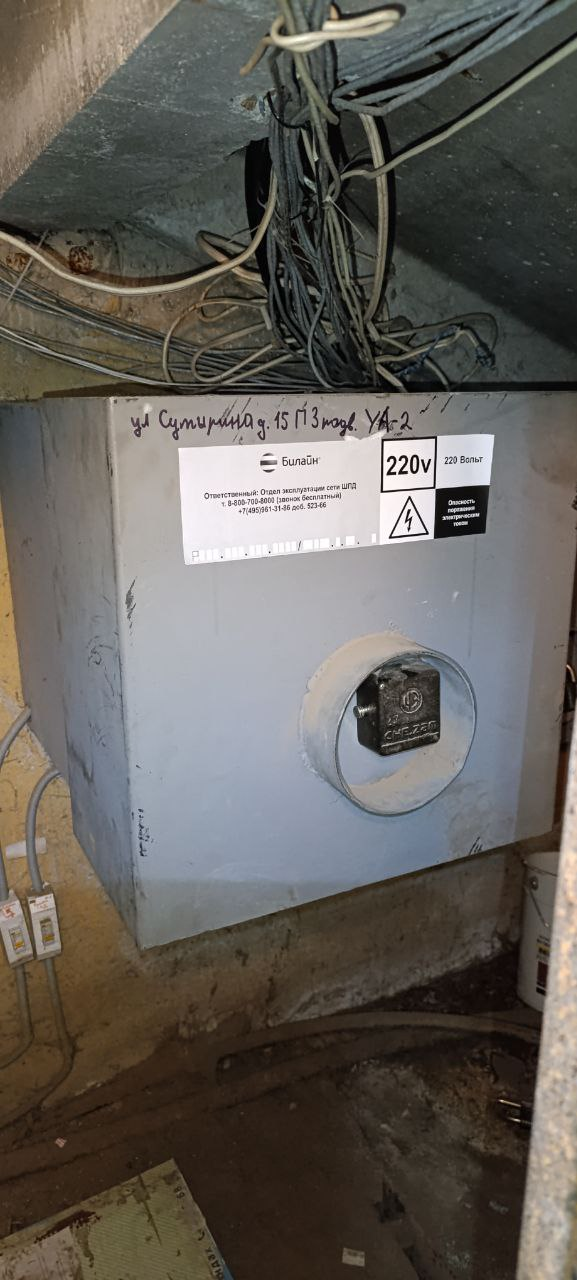shta-9: (5, 384, 573, 957)
